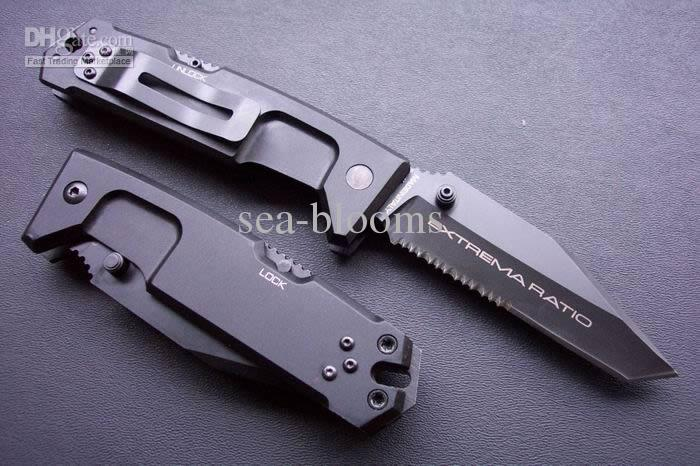knife: (375, 157, 686, 401)
